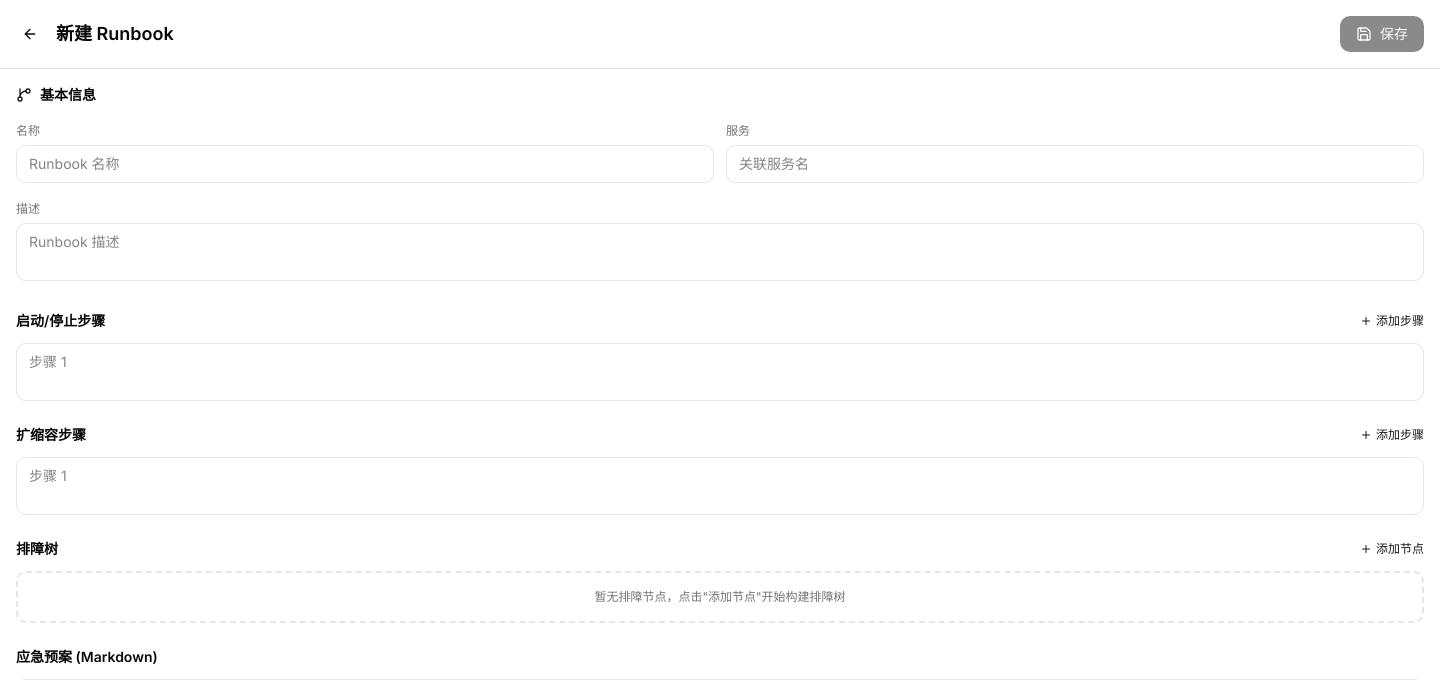
Test: RunbookEditor › shows error message on save failure
Type "New Runbook" into the field with placeholder "Runbook 名称" at (365, 164), box [16,145,714,183]
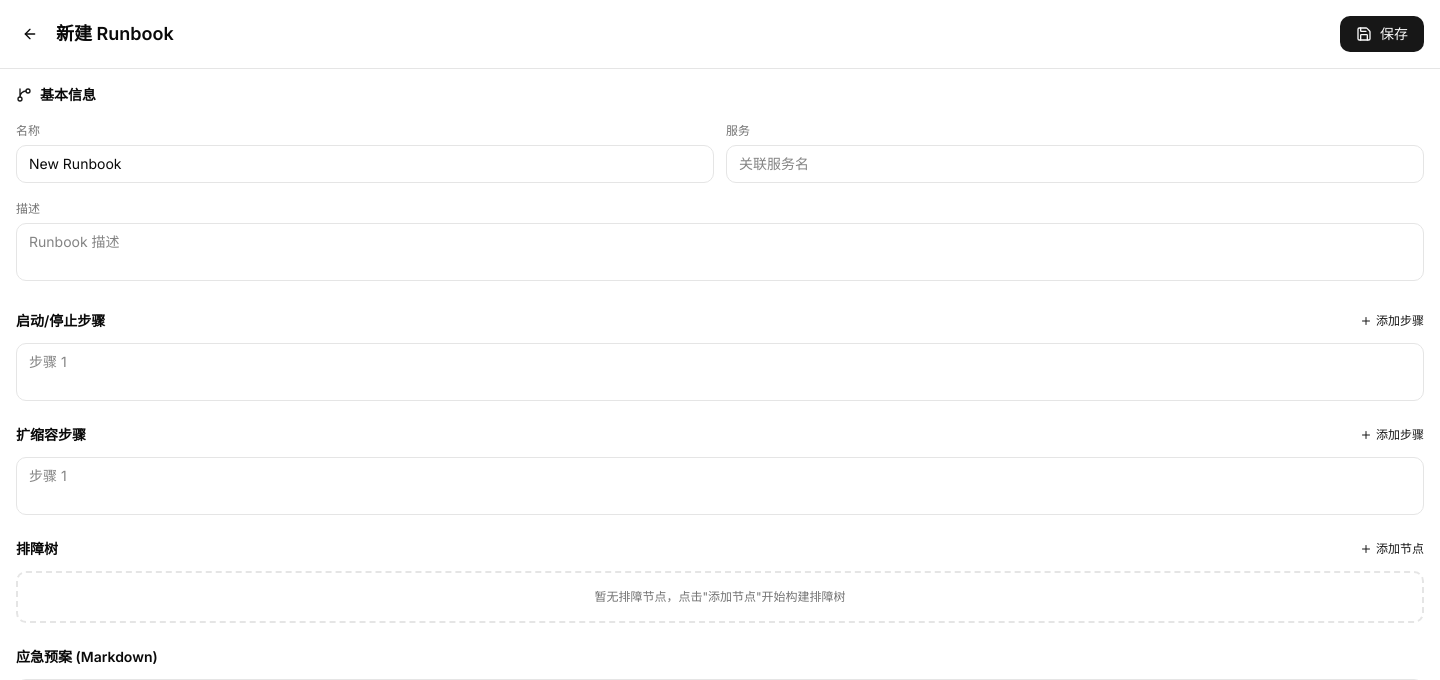
Click the button "保存" at (1382, 34), box [1340,16,1424,52]
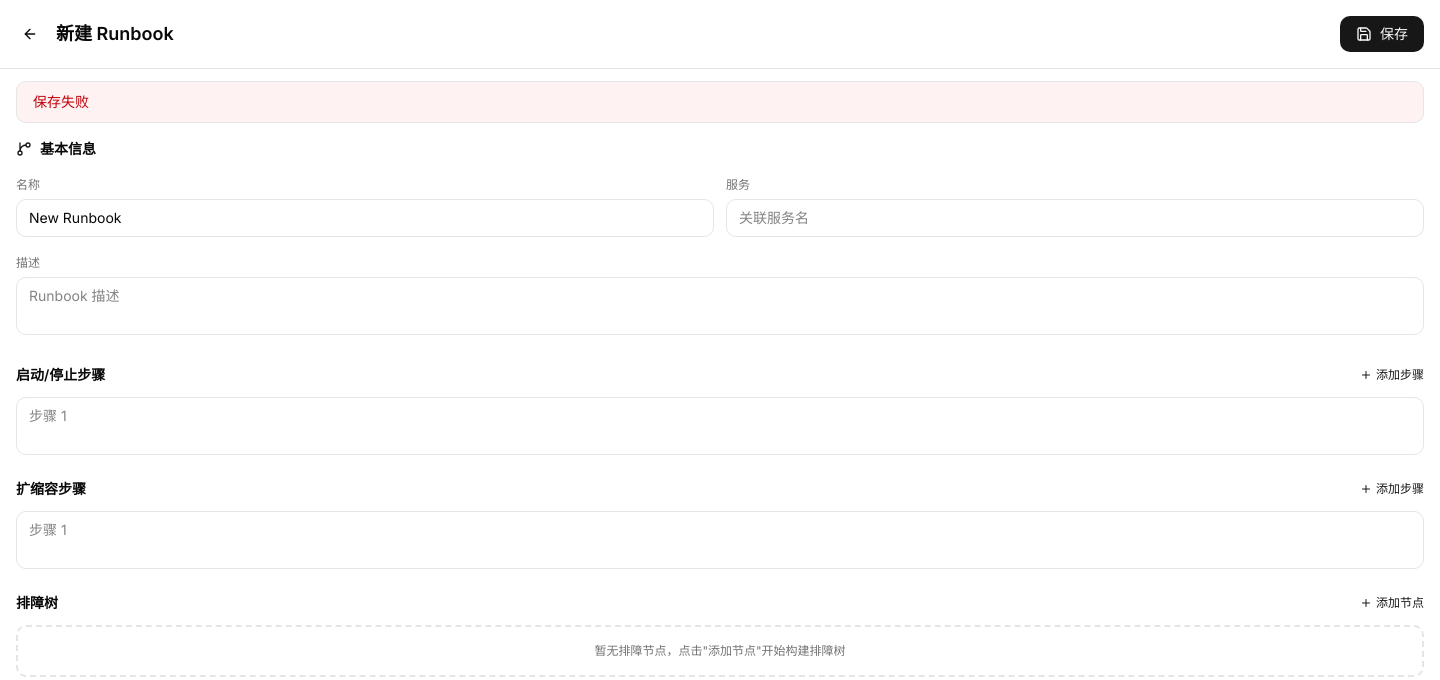
Check: the text "保存失败" is shown, box [16,81,1424,123]
